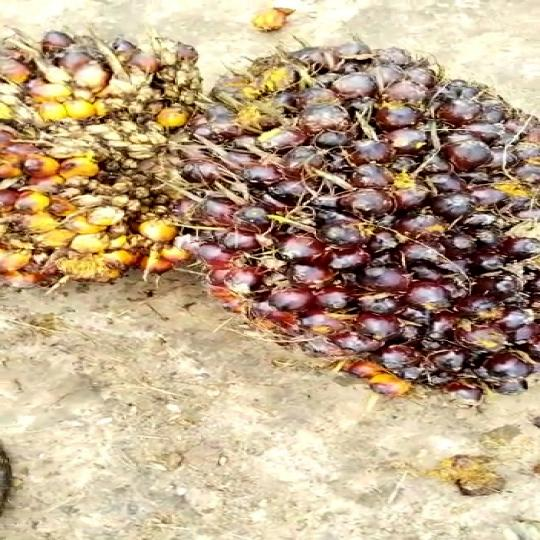kurang masak: (203, 44, 540, 399), (0, 16, 240, 284)
